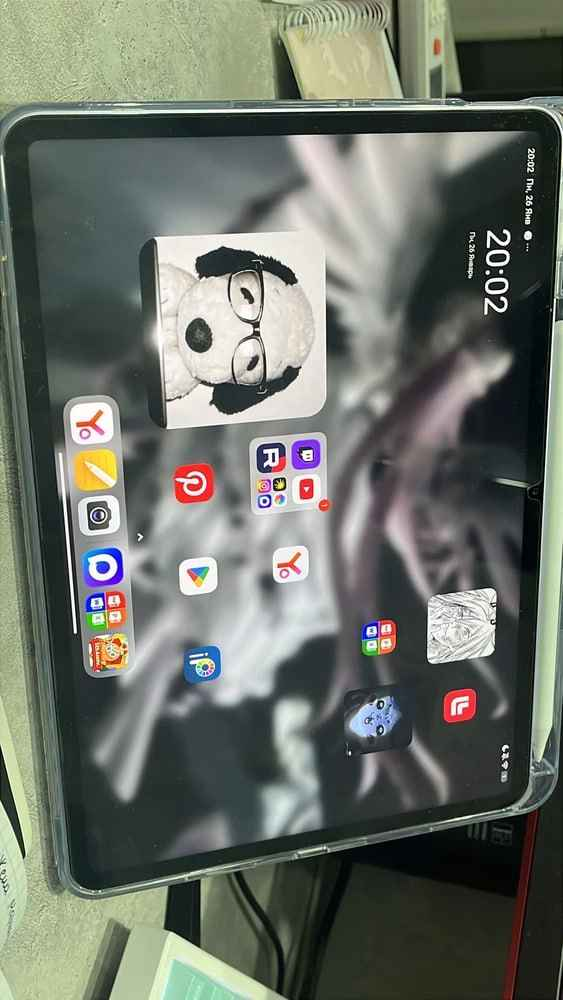tablet: (23, 123, 553, 847)
